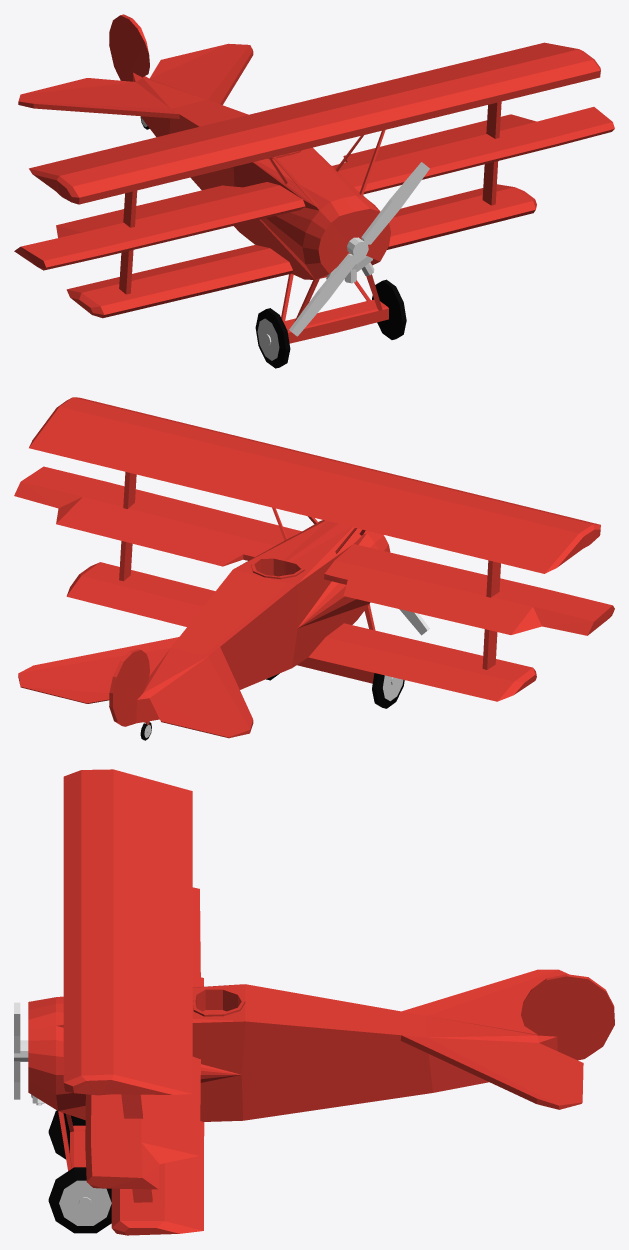
The picture shows the model from 3 angles, top to bottom: view 1: azimuth 30°, elevation 25°; view 2: azimuth 150°, elevation 25°; view 3: azimuth 270°, elevation 25°; orthographic projection. The views are drawn at different scales.
Parts seen in each view (by area): view 1: Plane.001, Cylinder; view 2: Plane.001; view 3: Plane.001, Cylinder.
Part boxes in pixels (x1=…): Plane.001: x1=14, y1=14, x2=614, y2=368; Cylinder: x1=289, y1=162, x2=429, y2=336; Plane.001: x1=14, y1=397, x2=614, y2=740; Plane.001: x1=28, y1=769, x2=614, y2=1235; Cylinder: x1=14, y1=1002, x2=28, y2=1099.
Bounding box in the file's own units: 377 × 144 × 284.
